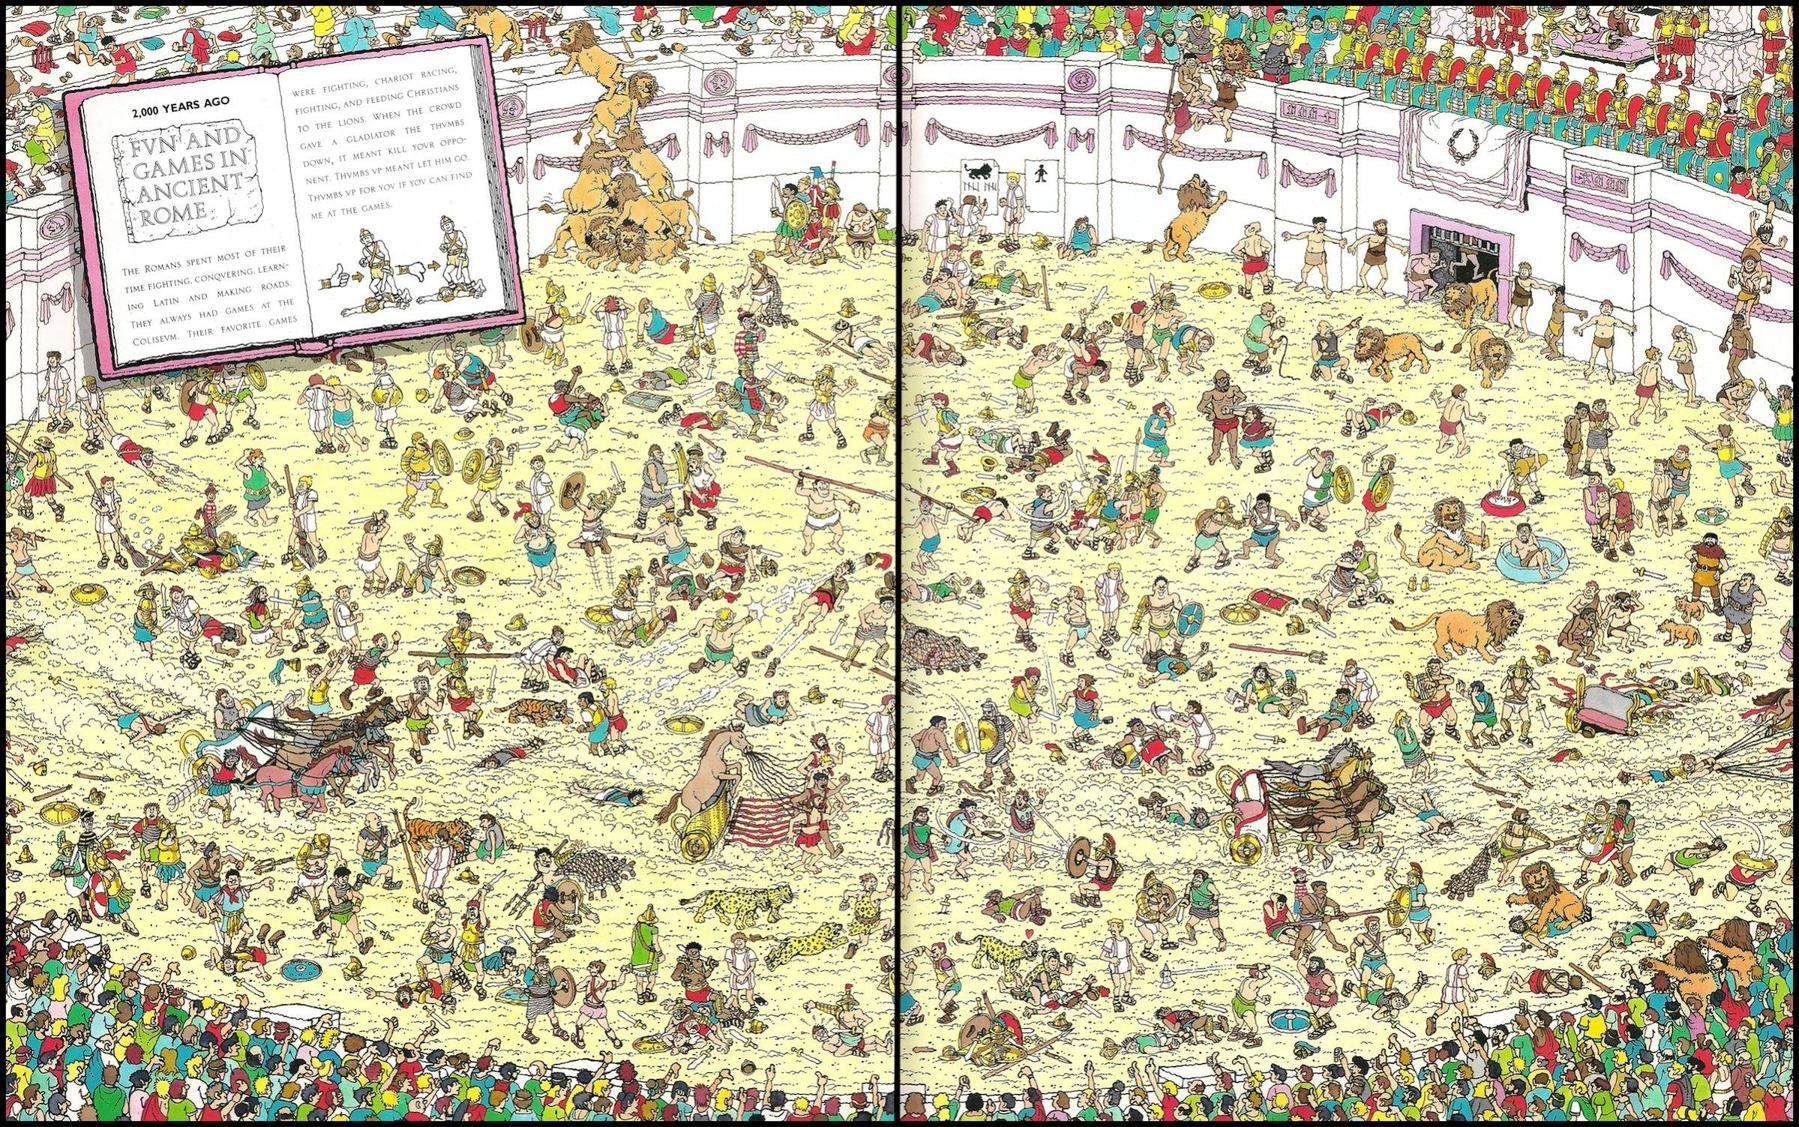waldo: (733, 306, 758, 332)
